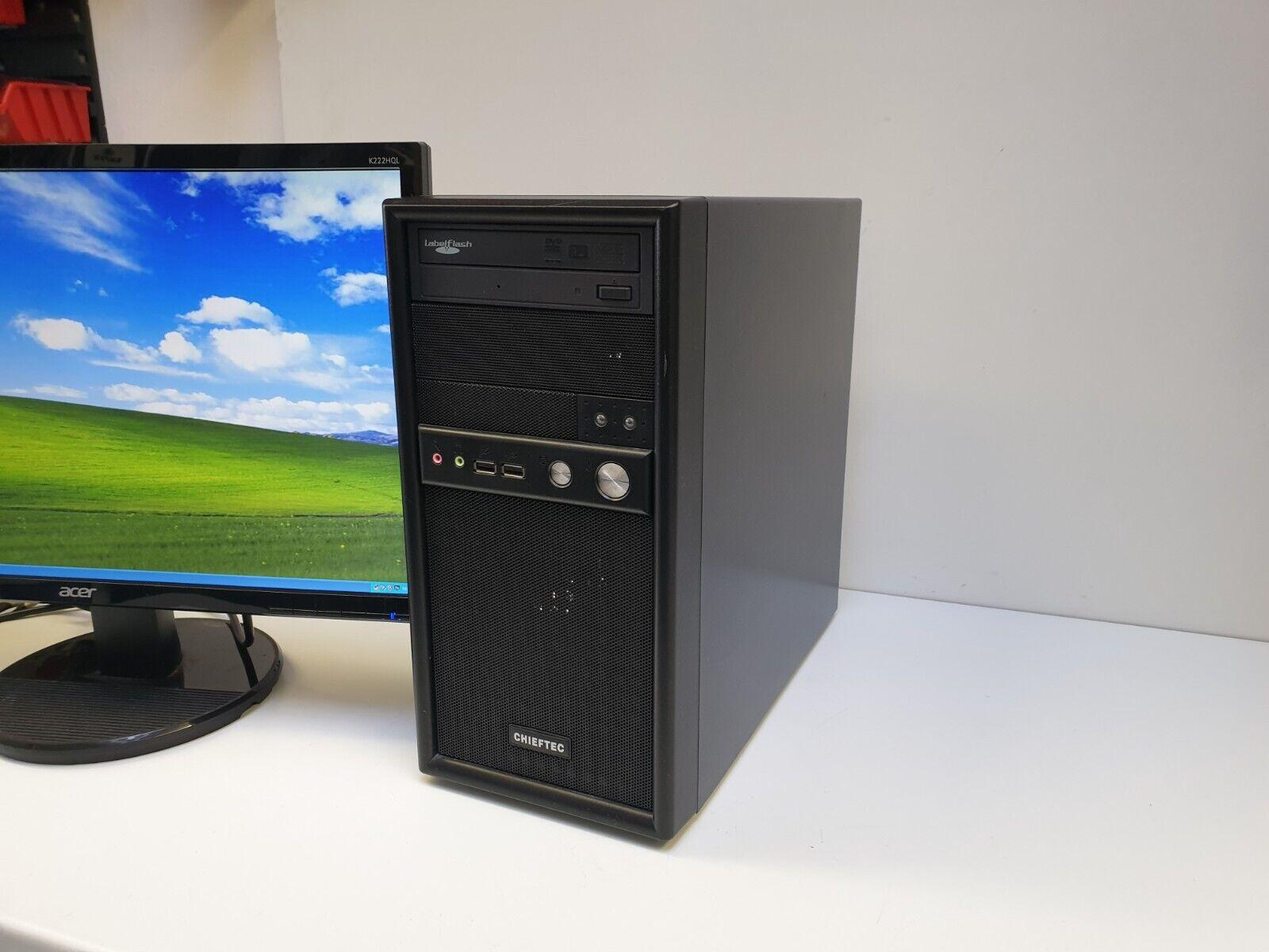DESKTOP PC: (373, 185, 872, 852)
Monitors: (0, 156, 426, 640)
